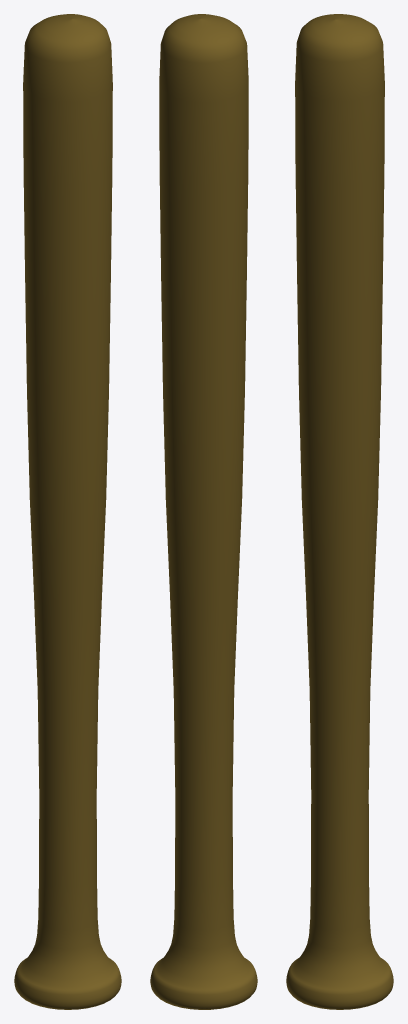
File: Bat(melee).glb
3 views of the same model, side by side, from view 1: azimuth 90°, elevation 25°; view 2: azimuth 210°, elevation 25°; view 3: azimuth 270°, elevation 25° (orthographic).
Parts seen in each view (by area): view 1: Circle; view 2: Circle; view 3: Circle.
Part boxes in pixels (x1,y1,x2,y2): Circle: (14, 14, 121, 1009); Circle: (150, 14, 257, 1009); Circle: (286, 14, 393, 1009).
Bounding box in the file's own units: 1.79 × 17.93 × 1.79.
